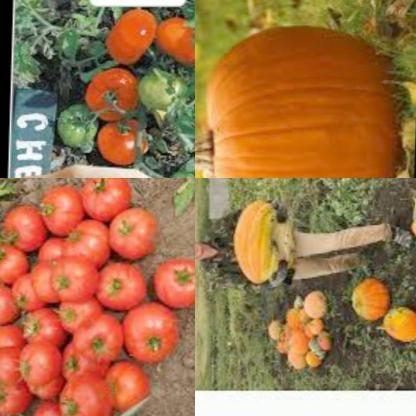pumpkin: (195, 19, 402, 178), (263, 291, 336, 370), (236, 196, 284, 286), (344, 272, 393, 322), (374, 302, 416, 345), (406, 198, 416, 245)
tomato: (98, 0, 174, 74), (72, 62, 152, 124), (115, 305, 181, 364), (88, 116, 158, 170), (103, 207, 157, 263), (49, 98, 107, 148), (150, 253, 195, 311), (71, 310, 123, 360), (98, 362, 151, 408), (152, 12, 195, 65), (55, 376, 110, 416), (0, 204, 44, 252), (100, 264, 144, 312), (64, 222, 116, 262), (38, 185, 80, 234), (79, 178, 130, 218), (12, 344, 60, 386), (48, 256, 94, 298), (139, 72, 189, 110), (58, 342, 103, 382), (51, 298, 99, 334), (22, 312, 62, 350), (10, 274, 43, 312), (0, 378, 31, 416), (0, 346, 27, 388), (0, 242, 25, 281), (0, 282, 20, 324), (0, 327, 21, 356), (27, 406, 66, 416)
